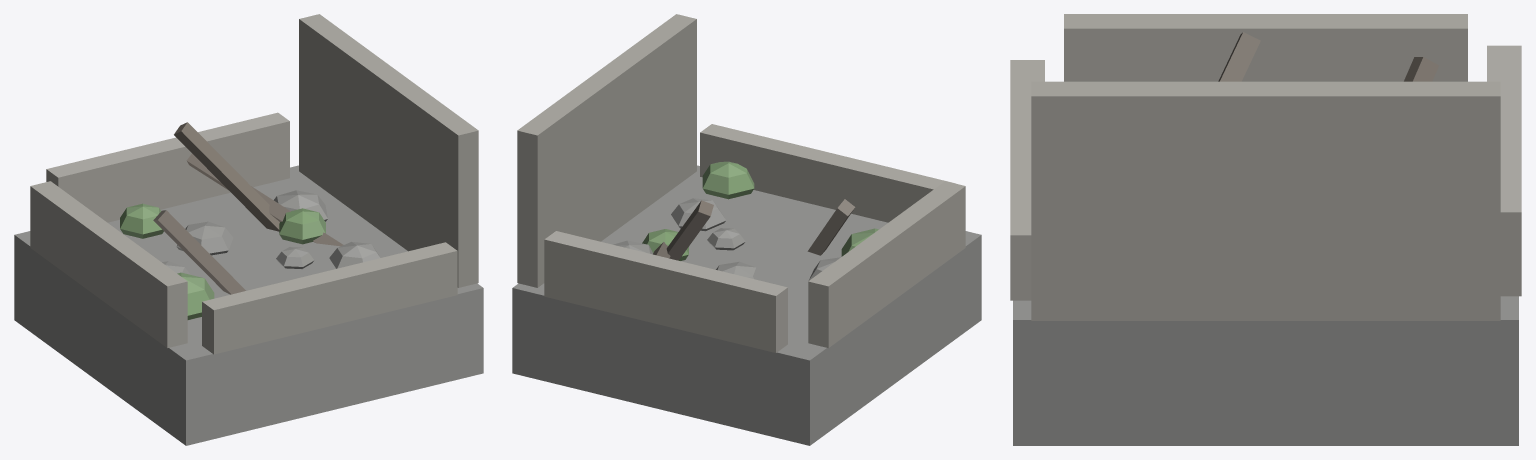
Rendered from ruined_house.glb.
3 renders of one model, left to right at view 1: azimuth 30°, elevation 25°; view 2: azimuth 150°, elevation 25°; view 3: azimuth 270°, elevation 25°, orthographic. The views are drawn at different scales.
Visible parts, largest first — view 1: ruined_house2; view 2: ruined_house2; view 3: ruined_house2.
Part boxes in pixels (x1,y1,x2,y2): ruined_house2: (14, 14, 483, 445); ruined_house2: (512, 14, 981, 445); ruined_house2: (1010, 14, 1521, 445).
Size of the model in its own units: 5.15 by 3.9 by 5.15.
